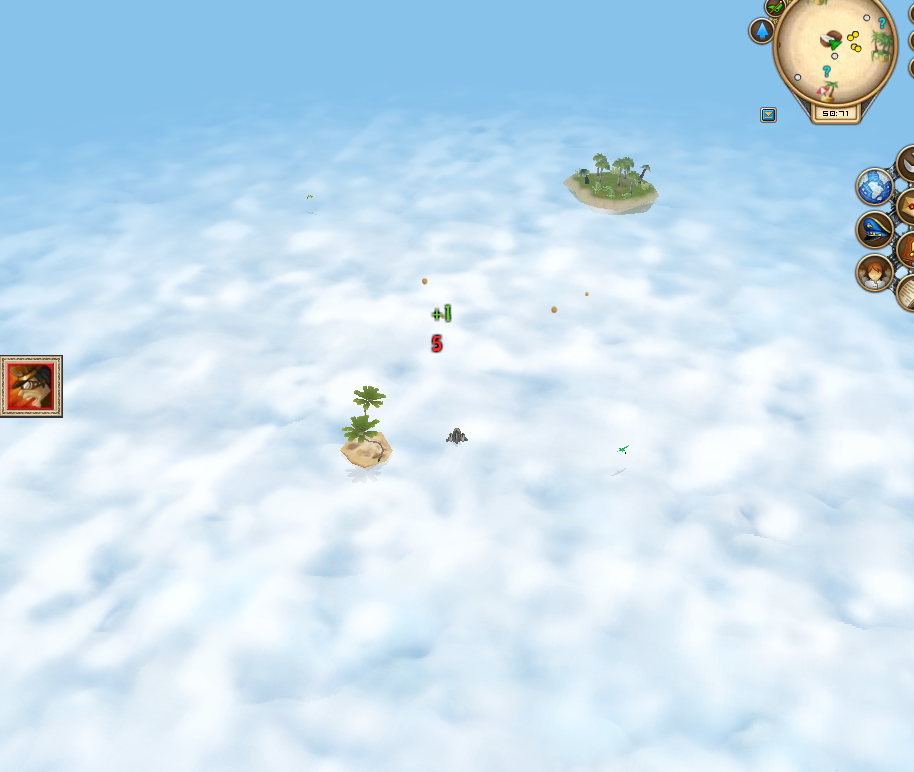coconut: (549, 304, 560, 314), (419, 276, 430, 286), (583, 288, 591, 297)
palm: (331, 380, 402, 476)
